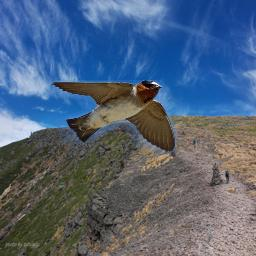Swallow: (50, 80, 177, 153)
